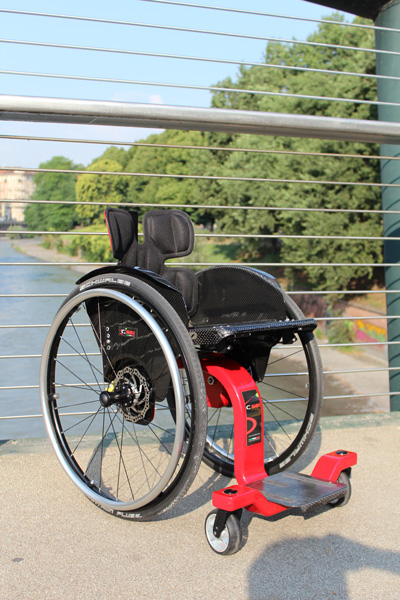wheelchair: (42, 206, 337, 528)
